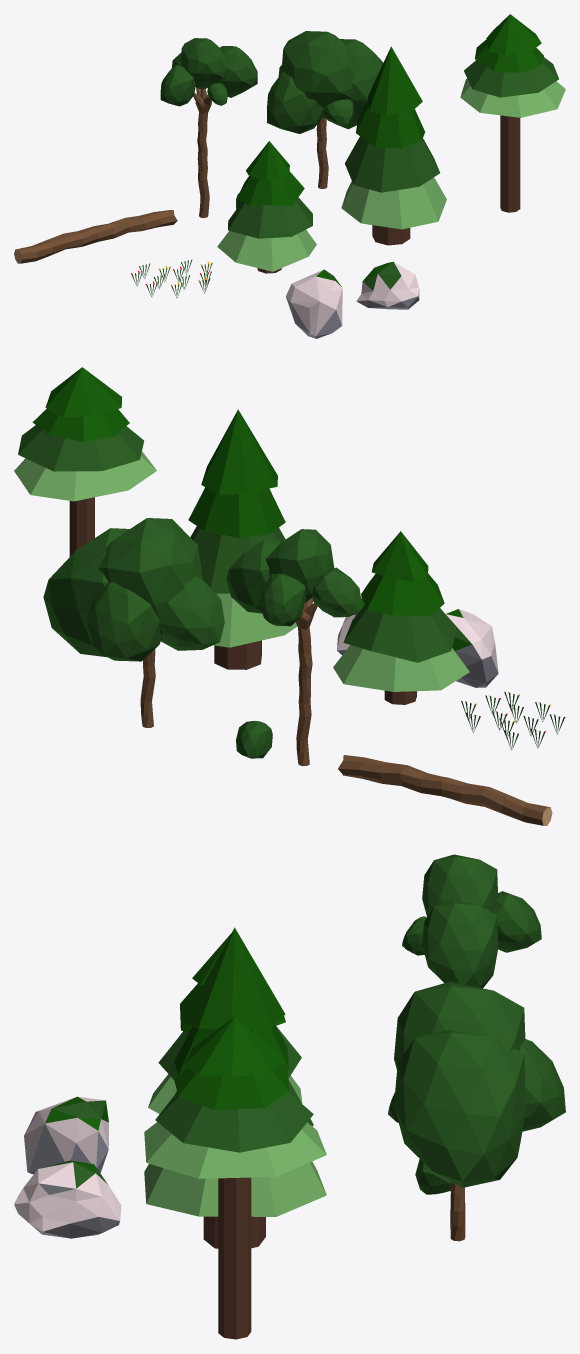
The model's file is FloraPack1.fbx.
3 renders of one model, top to bottom at view 1: azimuth 30°, elevation 25°; view 2: azimuth 150°, elevation 25°; view 3: azimuth 270°, elevation 25°, orthographic. The views are drawn at different scales.
Parts seen in each view (by area): view 1: Tree_2, Tree_5, Tree_4, Tree_1, Tree_3, Rock_1, Trunk_1, Rock_2, Grass_1; view 2: Tree_5, Tree_1, Tree_4, Tree_2, Tree_3, Trunk_1, Rock_1, Grass_1, Bush_1; view 3: Tree_5, Tree_4, Tree_2, Tree_3, Rock_2, Rock_1, Tree_1, Bush_1.
Boxes of the visible parts, x1,y1,x2,y2 form: Tree_2: [341, 46, 446, 245]; Tree_5: [267, 31, 383, 188]; Tree_4: [460, 14, 565, 212]; Tree_1: [217, 141, 316, 273]; Tree_3: [160, 38, 257, 218]; Rock_1: [286, 269, 342, 338]; Trunk_1: [14, 210, 177, 263]; Rock_2: [356, 261, 419, 309]; Grass_1: [131, 259, 212, 297]; Tree_5: [43, 518, 224, 727]; Tree_1: [333, 531, 469, 704]; Tree_4: [14, 367, 156, 556]; Tree_2: [188, 409, 297, 669]; Tree_3: [226, 529, 361, 766]; Trunk_1: [338, 755, 552, 825]; Rock_1: [445, 609, 498, 687]; Grass_1: [461, 691, 565, 750]; Bush_1: [236, 720, 272, 758]; Tree_5: [388, 982, 565, 1241]; Tree_4: [144, 1016, 326, 1339]; Tree_2: [144, 927, 326, 1248]; Tree_3: [402, 854, 541, 988]; Rock_2: [14, 1160, 121, 1238]; Rock_1: [24, 1096, 108, 1174]; Tree_1: [148, 933, 302, 1113]; Bush_1: [415, 1159, 450, 1194].
Bounding box in the file's own units: 11.81 × 5.33 × 7.42.
